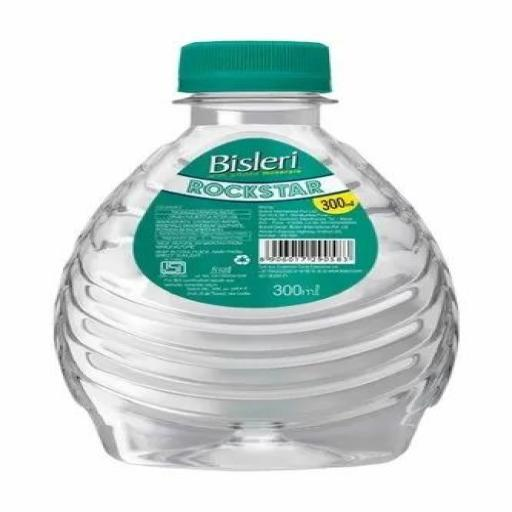bottle: (42, 34, 470, 478)
